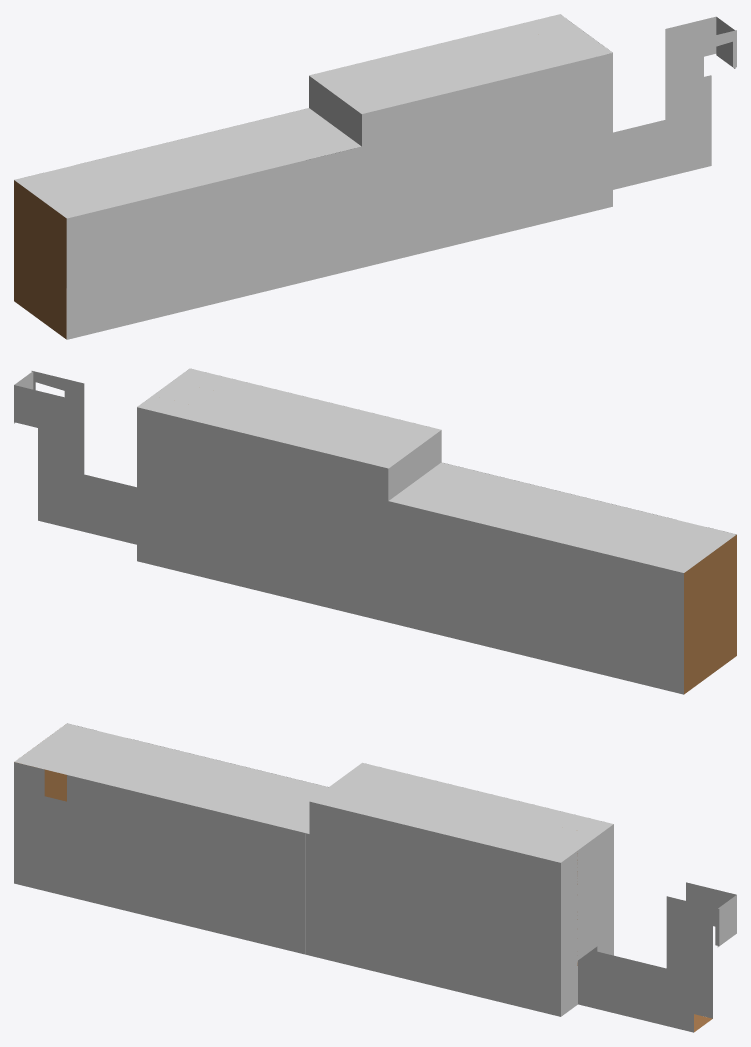
The model's file is Tunnel_ENV_BG_01.fbx.
The picture shows the model from 3 angles, top to bottom: view 1: azimuth 30°, elevation 25°; view 2: azimuth 150°, elevation 25°; view 3: azimuth 330°, elevation 25°; orthographic projection.
Parts seen in each view (by area): view 1: Track_BG_01.009, Track_BG_01.004, Track_BG_01.005, Track_BG_01.007, Track_BG_01.013, Track_BG_01.003, Track_BG_01.011, Track_BG_01.002; view 2: Track_BG_01.008, Track_BG_01.002, Track_BG_01.005, Track_BG_01.007, Track_BG_01.013, Track_BG_01.003, Track_BG_01.011, Track_BG_01.004; view 3: Track_BG_01.009, Track_BG_01.004, Track_BG_01.005, Track_BG_01.007, Track_BG_01.013, Track_BG_01.012, Track_BG_01, Track_BG_01.003.
Boxes of the visible parts, x1,y1,x2,y2 form: Track_BG_01.009: (362,53,612,267); Track_BG_01.004: (67,146,361,339); Track_BG_01.005: (14,108,361,218); Track_BG_01.007: (309,14,612,113); Track_BG_01.013: (613,16,736,189); Track_BG_01.003: (14,180,66,339); Track_BG_01.011: (309,76,361,146); Track_BG_01.002: (14,108,305,287); Track_BG_01.008: (137,407,388,622); Track_BG_01.002: (388,501,683,694); Track_BG_01.005: (389,462,736,572); Track_BG_01.007: (137,368,441,468); Track_BG_01.013: (14,371,136,544); Track_BG_01.003: (684,534,736,694); Track_BG_01.011: (388,430,441,500); Track_BG_01.004: (444,463,735,592); Track_BG_01.009: (309,801,560,1016); Track_BG_01.004: (14,762,309,955); Track_BG_01.005: (14,723,328,833); Track_BG_01.007: (309,762,613,862); Track_BG_01.013: (577,853,736,1032); Track_BG_01.012: (561,824,613,1016); Track_BG_01: (717,895,736,947); Track_BG_01.003: (17,762,66,801).
Size of the model in its own units: 35479 by 7594 by 4749.
